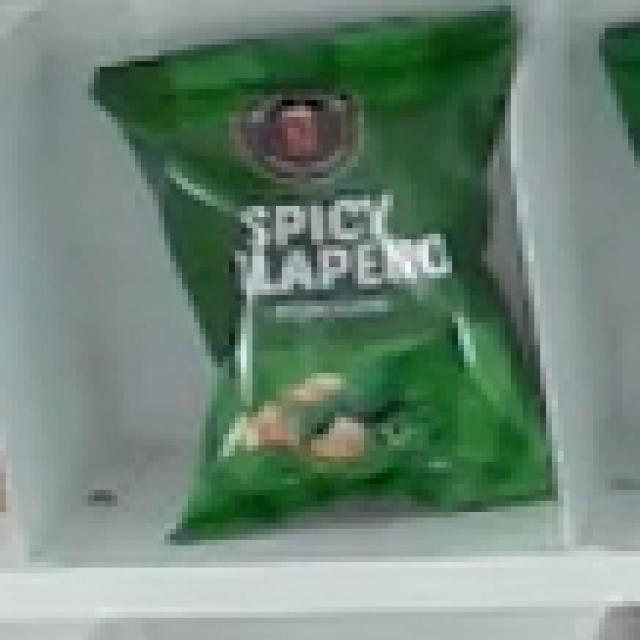Plastic: (83, 8, 564, 535)
